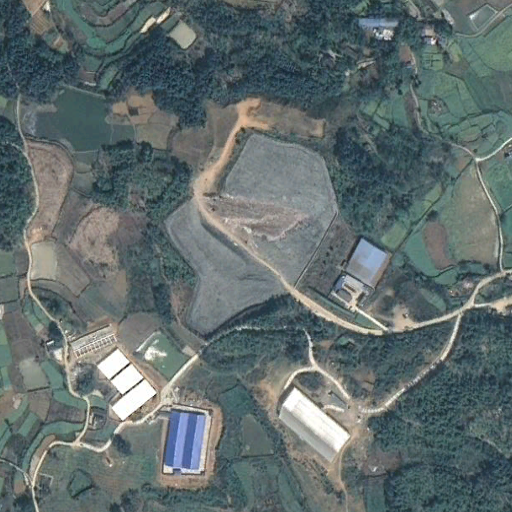lf: (160, 126, 339, 338)
